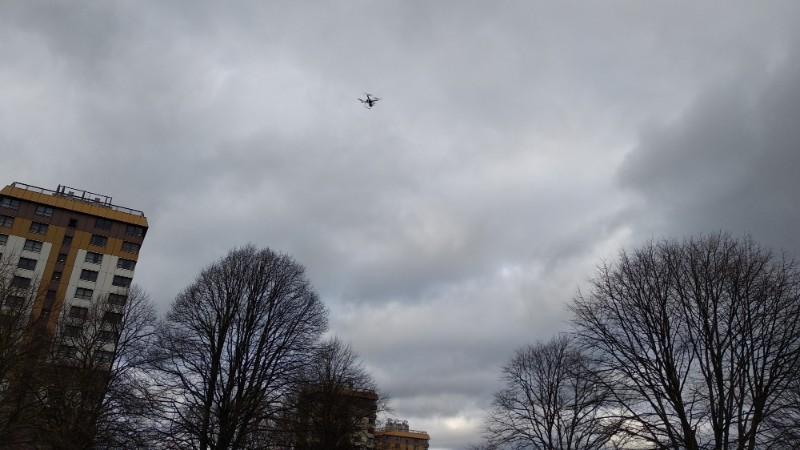drone: (357, 93, 383, 110)
